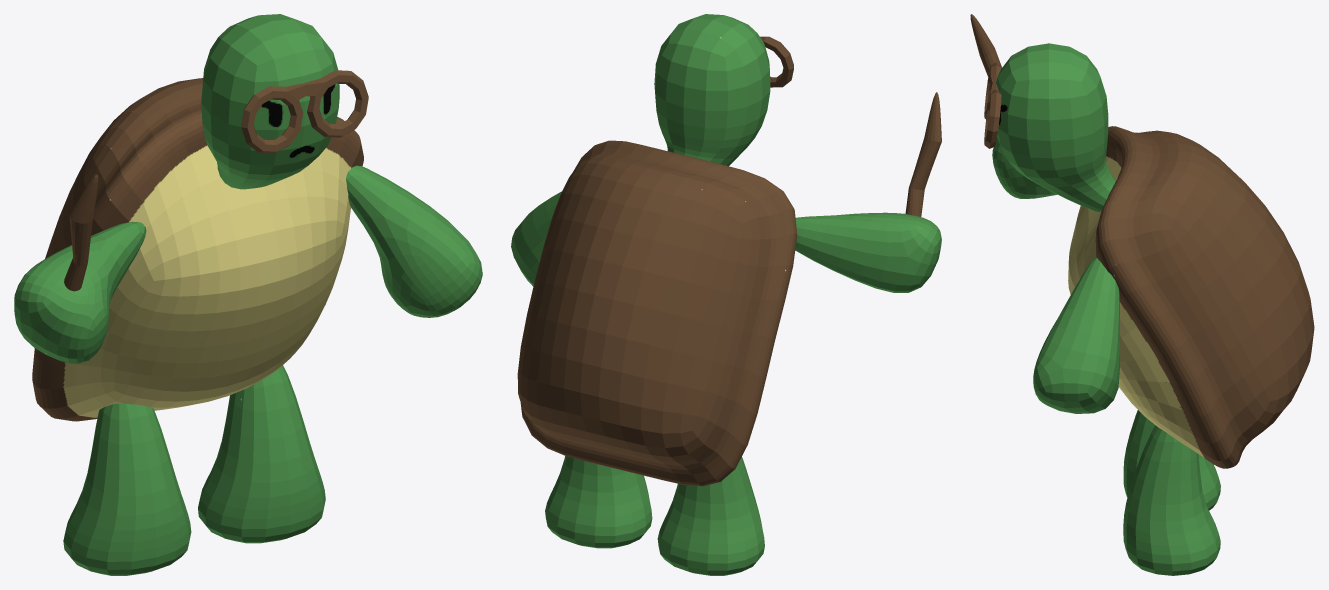
Rendered from patagan.fbx.
3 renders of one model, left to right at view 1: azimuth 30°, elevation 25°; view 2: azimuth 150°, elevation 25°; view 3: azimuth 270°, elevation 25°, orthographic. The views are drawn at different scales.
Parts seen in each view (by area): view 1: Shell, Head, Right Leg, Left Leg, Left Arm, Right Arm, Glasses, Wand; view 2: Shell, Head, Right Arm, Right Leg, Left Leg, Left Arm, Wand, Glasses; view 3: Shell, Head, Left Leg, Left Arm, Right Leg, Right Arm, Glasses, Wand.
Part boxes in pixels (x1,y1,x2,y2): Shell: (32,78,363,421); Head: (201,14,339,189); Right Leg: (63,403,191,575); Left Leg: (198,365,325,543); Left Arm: (346,165,482,317); Right Arm: (14,221,146,363); Glasses: (241,70,368,153); Wand: (64,174,98,291); Shell: (517,140,797,486); Head: (654,14,770,166); Right Arm: (795,212,941,292); Right Leg: (657,457,764,575); Left Leg: (545,456,652,548); Left Arm: (511,191,561,286); Wand: (905,92,941,216); Glasses: (760,36,793,87); Shell: (1068,126,1314,468); Head: (996,43,1115,212); Left Leg: (1123,425,1220,575); Left Arm: (1033,257,1119,413); Right Leg: (1123,410,1220,510); Right Arm: (992,137,1057,198); Glasses: (984,62,1001,148); Wand: (970,14,1001,76).
Bounding box in the file's own units: 1.08 × 1.25 × 0.7995.
Materials: 1 (1 with a texture image).
